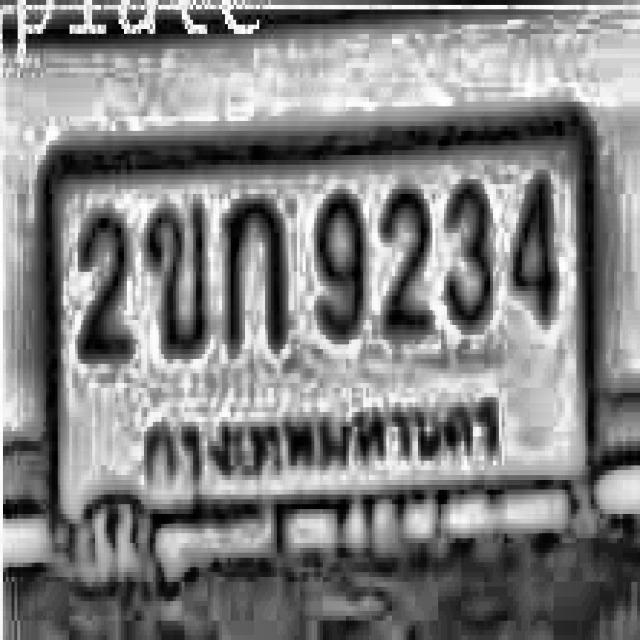license-plate: (43, 101, 605, 600)
